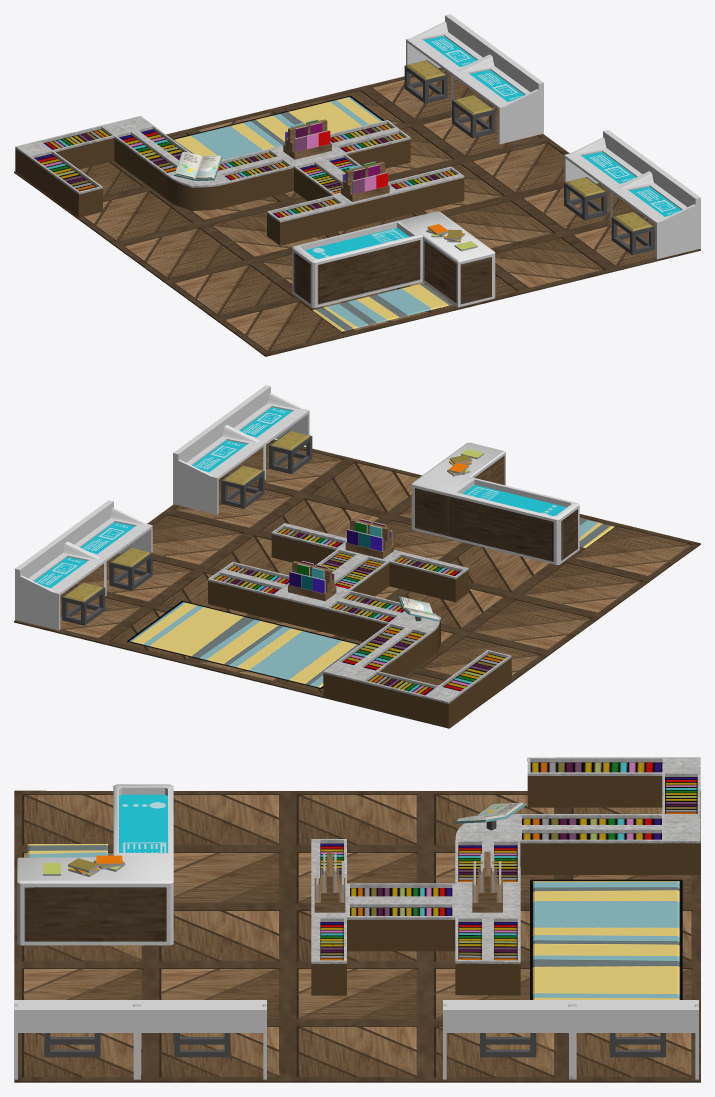
Rendered from Book_Tile.fbx.
3 renders of one model, top to bottom at view 1: azimuth 30°, elevation 25°; view 2: azimuth 150°, elevation 25°; view 3: azimuth 270°, elevation 25°, orthographic. The views are drawn at different scales.
Parts seen in each view (by area): view 1: BookStore004, Object076, Object079, Object078, Object077; view 2: BookStore004, Object076, Object079, Object078, Object077; view 3: BookStore004, Object076, Object079, Object078, Object077.
Boxes of the visible parts, x1=… form: BookStore004: x1=14, y1=67, x2=700, y2=356; Object076: x1=15, y1=116, x2=464, y2=245; Object079: x1=292, y1=211, x2=495, y2=307; Object078: x1=404, y1=14, x2=543, y2=144; Object077: x1=564, y1=130, x2=700, y2=259; BookStore004: x1=14, y1=439, x2=700, y2=728; Object076: x1=208, y1=518, x2=511, y2=726; Object079: x1=411, y1=442, x2=579, y2=564; Object078: x1=15, y1=500, x2=152, y2=630; Object077: x1=173, y1=385, x2=312, y2=514; BookStore004: x1=14, y1=790, x2=700, y2=1082; Object076: x1=311, y1=757, x2=700, y2=995; Object079: x1=17, y1=784, x2=173, y2=945; Object078: x1=443, y1=1000, x2=698, y2=1079; Object077: x1=14, y1=1000, x2=266, y2=1079.
Size of the model in its own units: 350 by 41.03 by 350.
